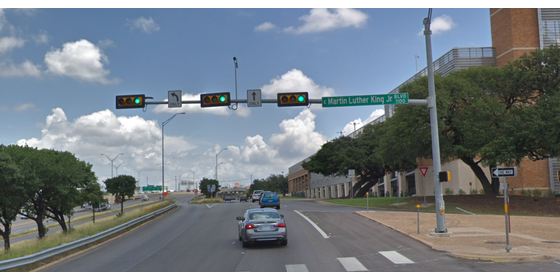left turn only sign: (167, 90, 183, 108)
one way arrow sign: (490, 167, 519, 177)
straight arrow only sign: (246, 89, 263, 108)
street name sign: (321, 95, 411, 107)
